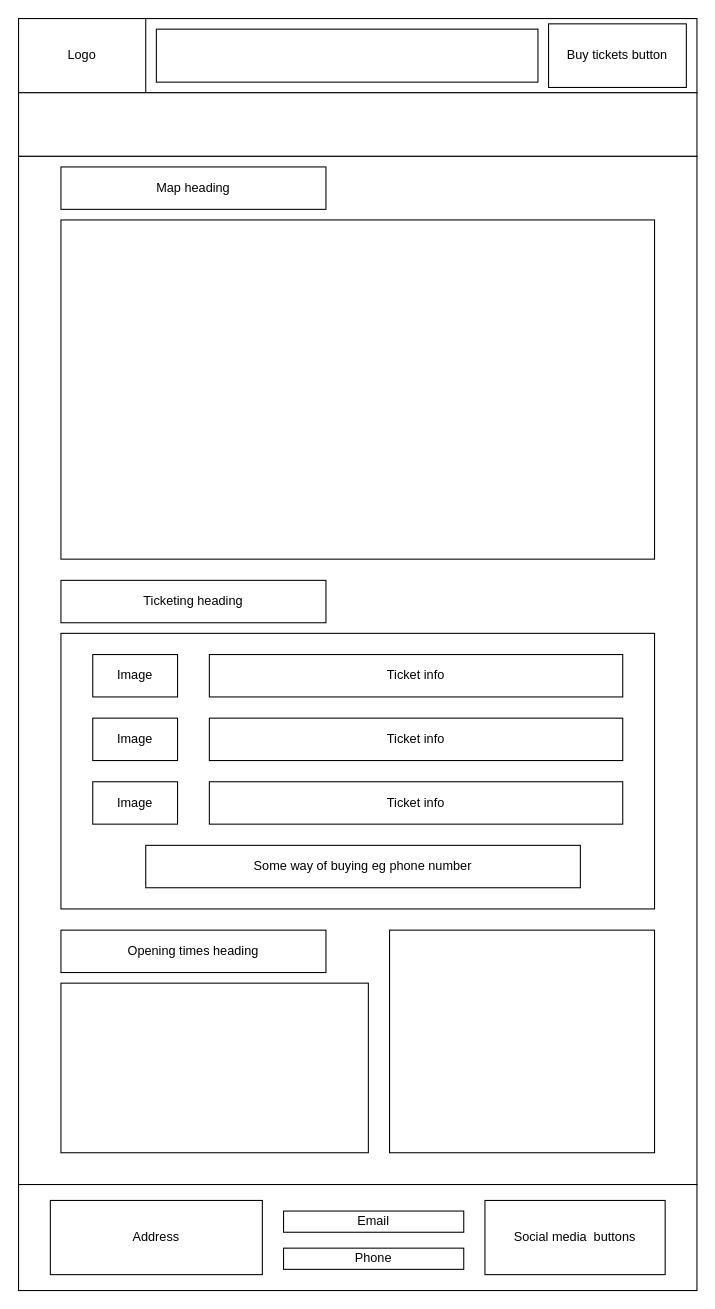
This 715x1309 diagram has some shape labels left out. Here are the shapes that lost their labels. From the top down, the centre of each, then its label:
point 346,55: Navigation
point 357,124: Page heading
point 357,389: Map with links
point 521,1041: Promo image/link?
point 214,1067: Opening times table
